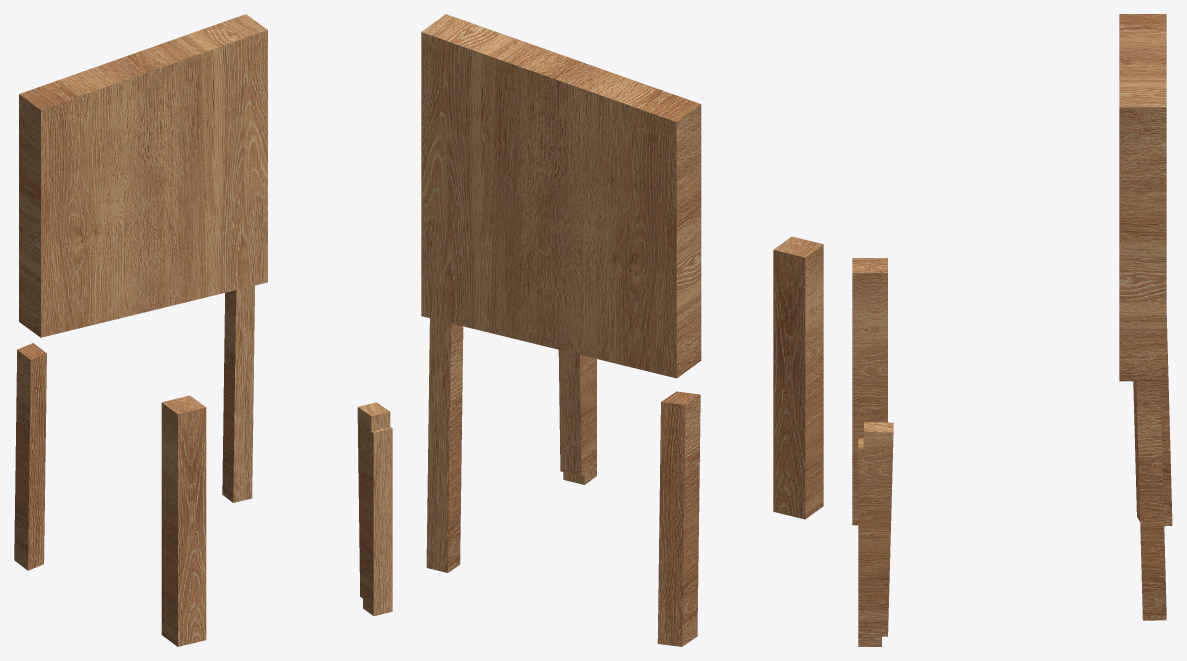
File: 36957_deepcad.glb
The picture shows the model from 3 angles, left to right: view 1: azimuth 30°, elevation 25°; view 2: azimuth 150°, elevation 25°; view 3: azimuth 270°, elevation 25°; orthographic projection. The views are drawn at different scales.
Visible parts, largest first — view 1: test_cmd_36957_pred; view 2: test_cmd_36957_pred; view 3: test_cmd_36957_pred.
Boxes of the visible parts, x1,y1,x2,y2 form: test_cmd_36957_pred: (14,14,392,646); test_cmd_36957_pred: (421,14,823,646); test_cmd_36957_pred: (852,14,1172,646).
Size of the model in its own units: 0.5 by 1 by 0.54.
1 material, 1 textured.
